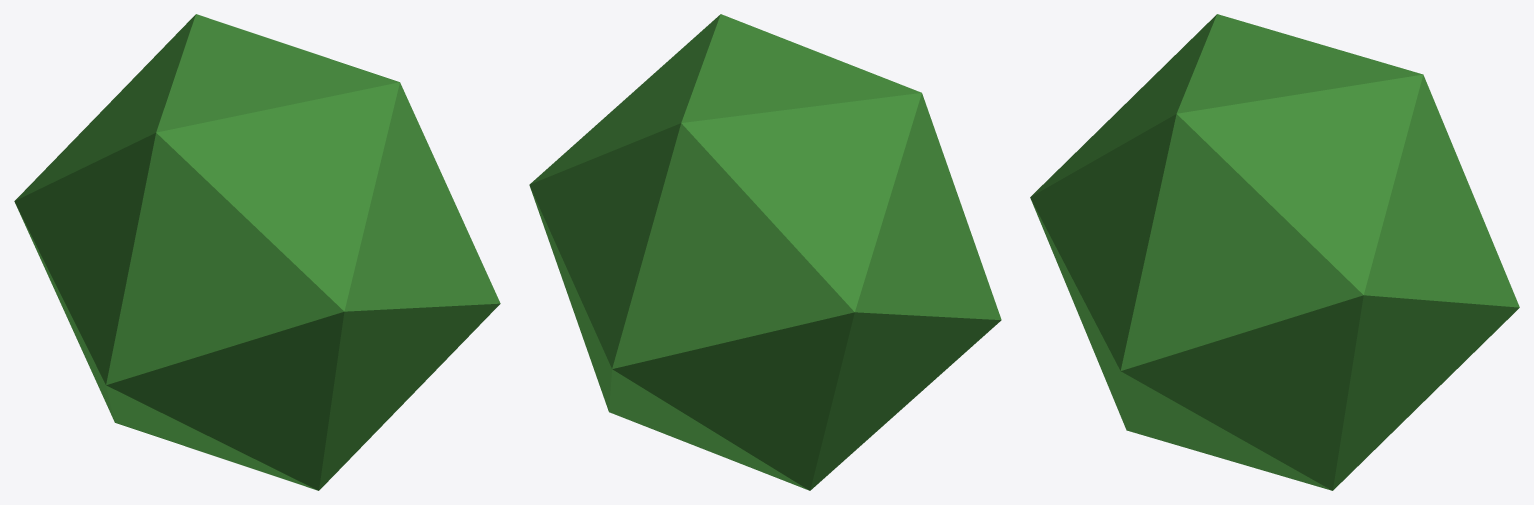
The model's file is buisson.glb.
The picture shows the model from 3 angles, left to right: view 1: azimuth 30°, elevation 25°; view 2: azimuth 150°, elevation 25°; view 3: azimuth 270°, elevation 25°; orthographic projection. The views are drawn at different scales.
Visible parts, largest first — view 1: Tree_lp_11; view 2: Tree_lp_11; view 3: Tree_lp_11.
Part boxes in pixels (<box>): Tree_lp_11: <box>14,14,500,490</box>; Tree_lp_11: <box>529,14,1001,490</box>; Tree_lp_11: <box>1030,14,1519,490</box>.
Size of the model in its own units: 7.2 by 6.44 by 7.73.
